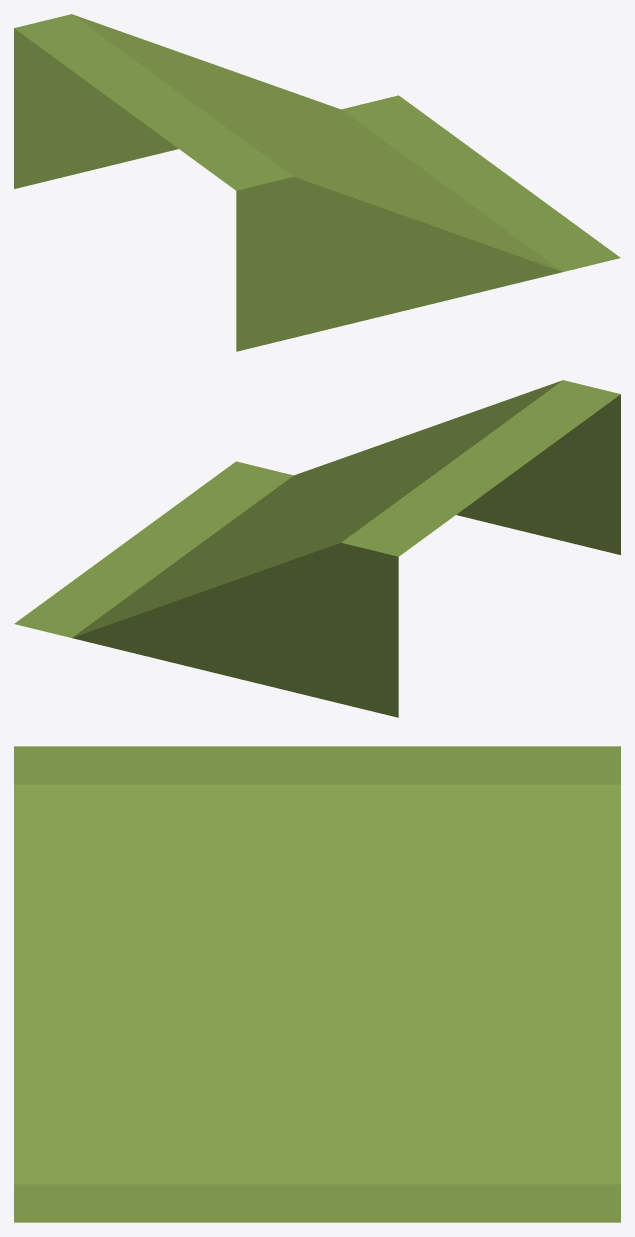
File: grass-tile_03.fbx
3 renders of one model, top to bottom at view 1: azimuth 30°, elevation 25°; view 2: azimuth 150°, elevation 25°; view 3: azimuth 270°, elevation 25°, orthographic. The views are drawn at different scales.
Visible parts, largest first — view 1: grass_title_03; view 2: grass_title_03; view 3: grass_title_03.
Part boxes in pixels (box(x1,y1,x2,y2)): grass_title_03: box(14, 14, 620, 351); grass_title_03: box(14, 380, 620, 717); grass_title_03: box(14, 746, 620, 1222).
Size of the model in its own units: 1000 by 400 by 1000.
